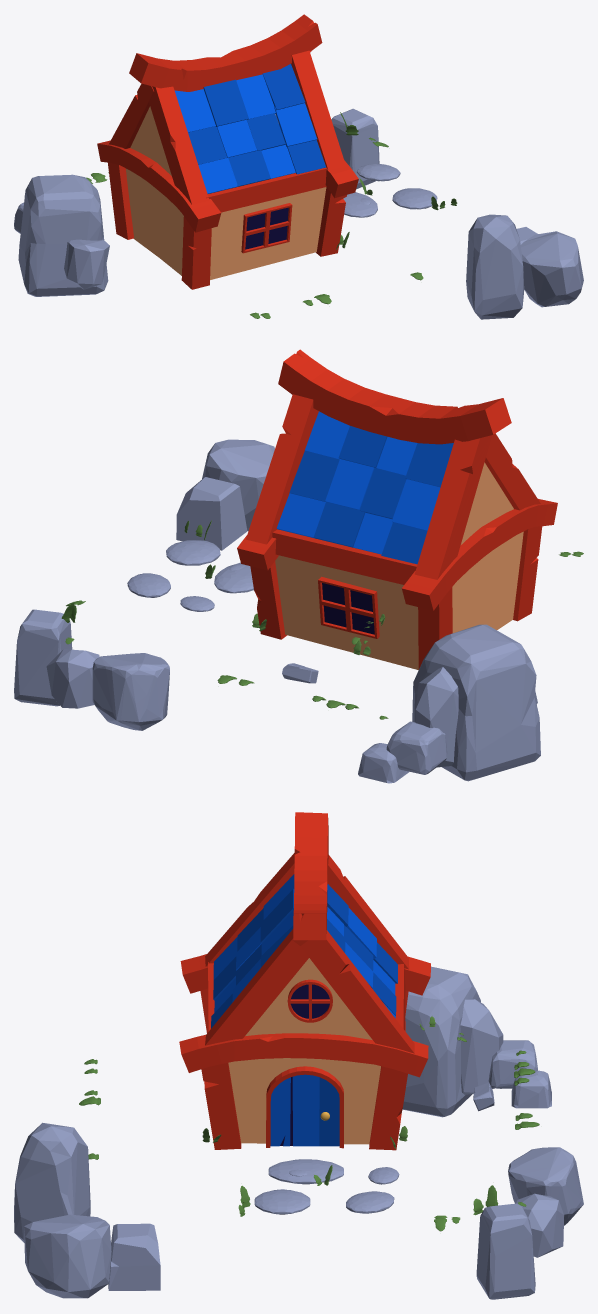
File: casa.fbx
The picture shows the model from 3 angles, top to bottom: view 1: azimuth 30°, elevation 25°; view 2: azimuth 150°, elevation 25°; view 3: azimuth 270°, elevation 25°; orthographic projection. The views are drawn at different scales.
Visible parts, largest first — view 1: PAREDES, Cubo.056, Cubo.004, Cubo.103, Cubo.102, Cubo.007, Cubo.026, Cubo.008, Cubo.009, Cubo.052, ventana.001, Cubo.058 (+20 smaller); view 2: PAREDES, Cubo.056, Cubo.004, Cubo.055, Cubo.006, Cubo.026, Cubo.005, Cubo.052, Cubo.104, Cubo.011, Cubo.102, ventana (+25 smaller); view 3: PAREDES, Cubo.056, Cubo.103, Cubo.102, Cubo.001, puerta, Cubo.052, Cubo.005, Cubo.004, Cubo.008, Cubo.055, Cubo.104 (+15 smaller).
Part boxes in pixels (x1,y1,x2,y2): PAREDES: (126,106,326,279); Cubo.056: (18,174,108,296); Cubo.004: (129,14,322,91); Cubo.103: (466,214,524,319); Cubo.102: (520,231,583,307); Cubo.007: (149,86,209,204); Cubo.026: (97,140,221,232); Cubo.008: (291,50,345,169); Cubo.009: (206,167,327,212); Cubo.052: (331,108,379,189); ventana.001: (241,203,292,253); Cubo.058: (64,239,109,289); PAREDES: (275,462,523,669); Cubo.056: (412,624,540,781); Cubo.004: (278,349,511,444); Cubo.055: (92,653,169,730); Cubo.006: (414,435,491,579); Cubo.026: (402,499,557,610); Cubo.005: (246,394,318,544); Cubo.052: (14,609,72,706); Cubo.104: (176,477,247,550); Cubo.011: (272,529,417,584); Cubo.102: (202,439,274,531); ventana: (318,576,379,638); PAREDES: (228,958,380,1144); Cubo.056: (402,966,480,1117); Cubo.103: (14,1122,90,1242); Cubo.102: (24,1214,111,1298); Cubo.001: (179,1033,428,1077); puerta: (266,1066,343,1148); Cubo.052: (476,1203,535,1299); Cubo.005: (292,930,414,1053); Cubo.004: (293,812,328,940); Cubo.008: (205,929,308,1045); Cubo.055: (508,1147,583,1225); Cubo.104: (108,1223,160,1290).
Bounding box in the file's own units: 1764 × 1030 × 1738.
